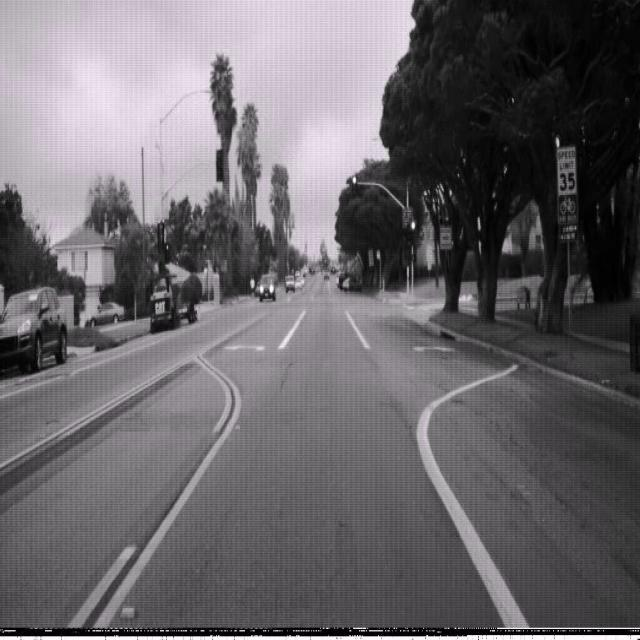speedLimit35: (556, 144, 578, 198)
